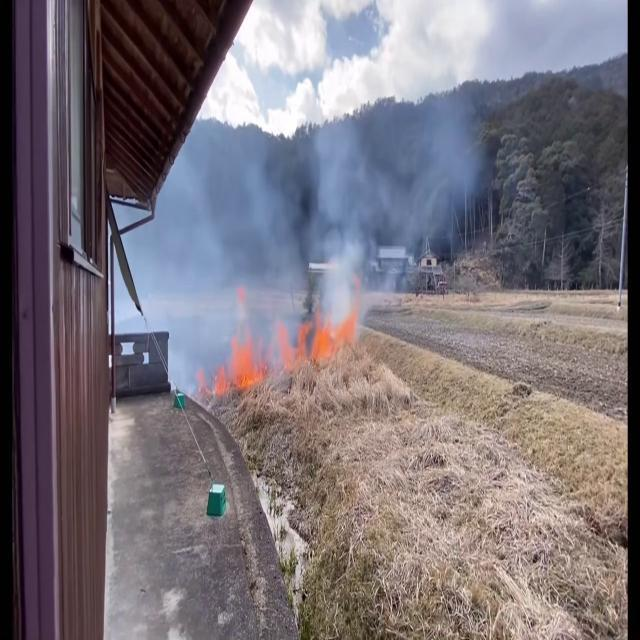Fire: (210, 304, 352, 412)
Smoke: (196, 57, 488, 382)
